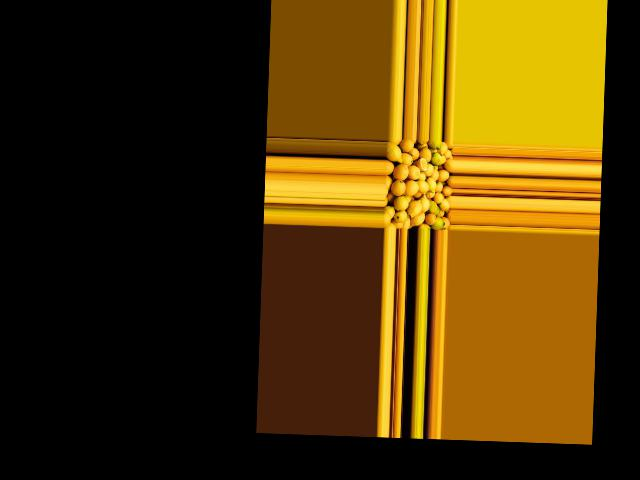lemon: (384, 175, 391, 189)
